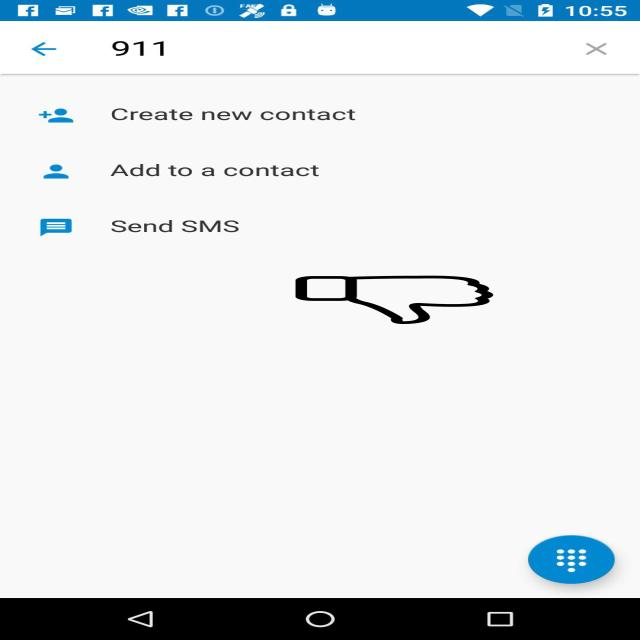obstruction: (293, 276, 496, 324)
